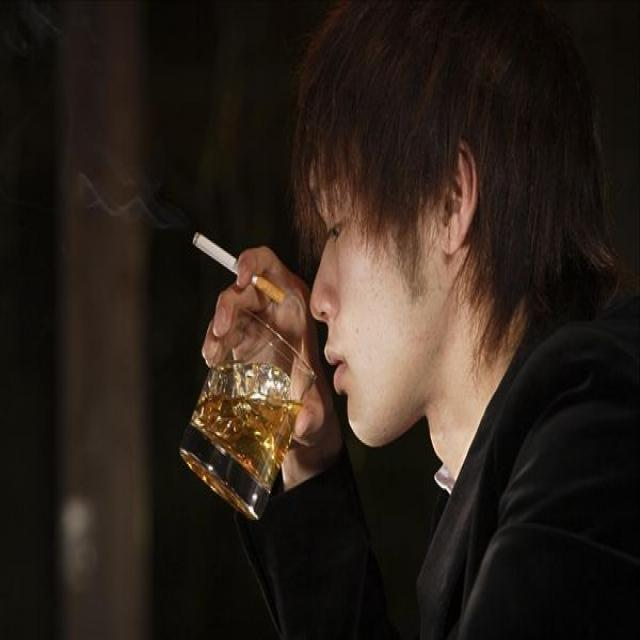smoking: (191, 231, 284, 304)
